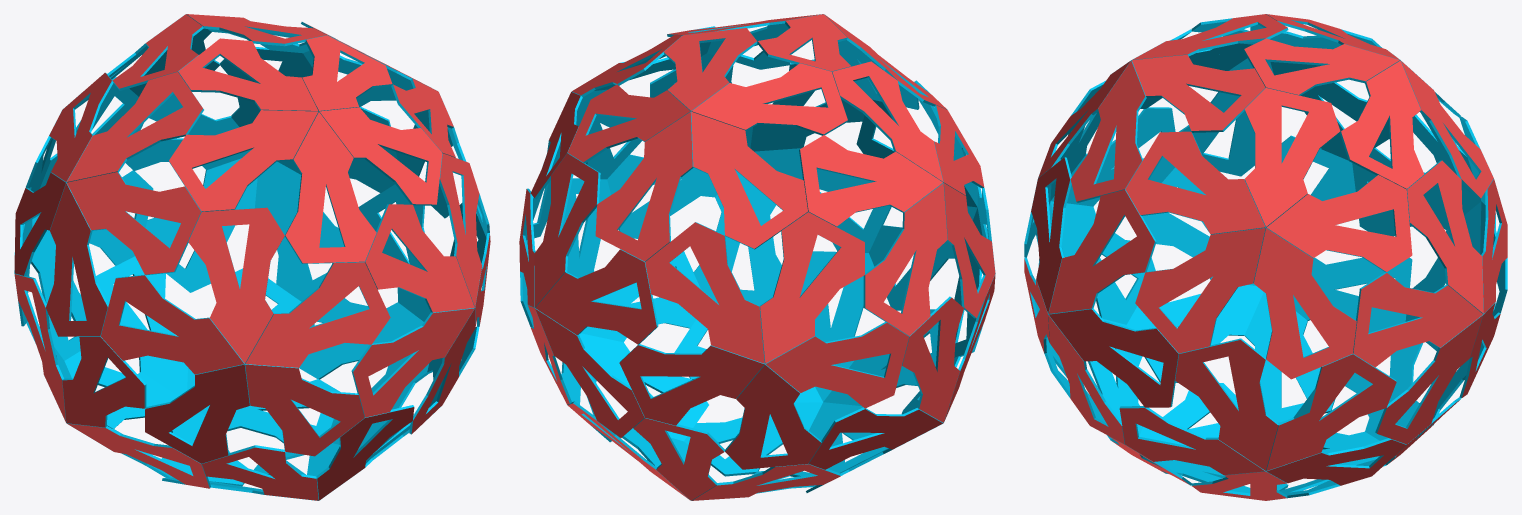
File: PentagonalHexecontahedronS.glb
3 views of the same model, side by side, from view 1: azimuth 30°, elevation 25°; view 2: azimuth 150°, elevation 25°; view 3: azimuth 270°, elevation 25° (orthographic).
Visible parts, largest first — view 1: root; view 2: root; view 3: root.
Boxes of the visible parts, box(x1,y1,x2,y2) form: root: box(14, 14, 490, 500); root: box(519, 14, 995, 500); root: box(1024, 14, 1507, 500).
Size of the model in its own units: 9.26 by 9.26 by 9.26.
